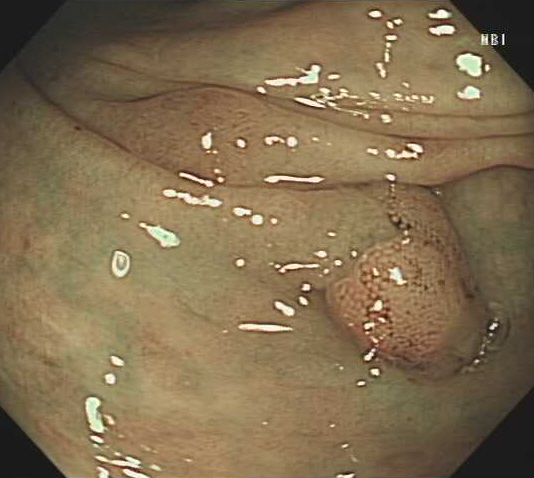others: (324, 184, 483, 375)
